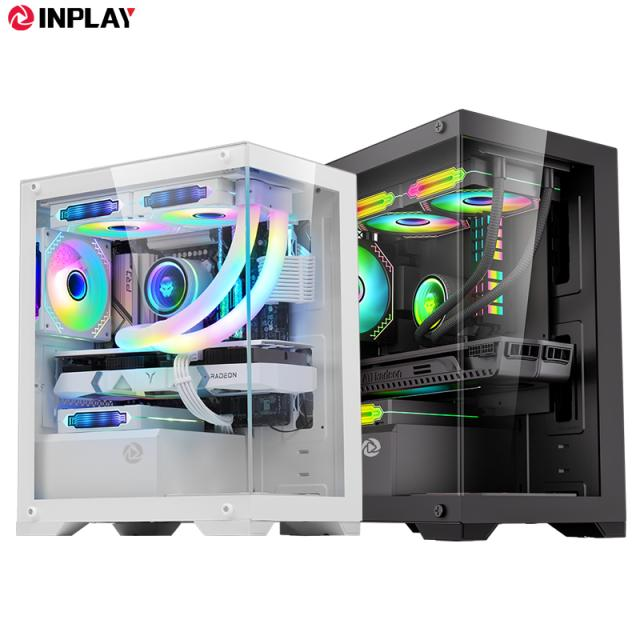electronics: (20, 110, 624, 538), (17, 142, 361, 534), (332, 110, 624, 538), (358, 167, 540, 338), (415, 156, 555, 346), (116, 204, 286, 352), (54, 341, 317, 432), (35, 404, 243, 495), (34, 427, 245, 500), (50, 172, 244, 243), (362, 337, 572, 397), (54, 349, 205, 430), (111, 229, 223, 334), (50, 177, 237, 238), (361, 398, 458, 495), (133, 170, 296, 226), (357, 168, 489, 237), (357, 166, 492, 232), (35, 228, 110, 341), (362, 418, 457, 497), (251, 229, 314, 341), (189, 341, 316, 395), (131, 173, 244, 232), (50, 189, 174, 238), (54, 350, 178, 398), (357, 166, 466, 218), (251, 341, 316, 427), (133, 177, 236, 224), (173, 354, 234, 432), (191, 342, 246, 427), (246, 210, 288, 318), (56, 404, 203, 432), (361, 397, 472, 434), (191, 362, 316, 394), (143, 258, 210, 316), (54, 367, 177, 397), (55, 347, 174, 377), (111, 245, 152, 330), (210, 394, 311, 427), (55, 347, 174, 375), (358, 240, 392, 338), (50, 191, 132, 230), (202, 338, 311, 366), (236, 172, 298, 218), (138, 178, 233, 208), (358, 243, 390, 332), (199, 340, 310, 364), (251, 269, 287, 340), (412, 274, 460, 326), (362, 210, 460, 235), (266, 254, 314, 302), (71, 218, 173, 239), (246, 175, 292, 220), (111, 254, 138, 330), (146, 227, 218, 254), (406, 166, 464, 199), (422, 188, 492, 215), (249, 178, 292, 220), (412, 274, 447, 324), (53, 198, 120, 224), (158, 205, 237, 226), (58, 409, 130, 432), (251, 300, 289, 341), (245, 221, 268, 282), (51, 268, 88, 301), (211, 281, 241, 320), (249, 222, 267, 281), (358, 192, 394, 219), (475, 269, 504, 298), (287, 222, 310, 254), (502, 192, 534, 214), (502, 192, 535, 213), (34, 241, 42, 321), (477, 294, 504, 314), (386, 321, 402, 341), (492, 318, 512, 332), (360, 255, 370, 277), (284, 244, 295, 260), (234, 327, 246, 338), (430, 318, 442, 329), (54, 300, 63, 314), (51, 284, 60, 298), (286, 228, 294, 242), (361, 301, 367, 319), (234, 330, 245, 338), (234, 329, 245, 337), (458, 316, 469, 322), (361, 196, 372, 202), (549, 189, 555, 200), (232, 287, 238, 298), (361, 256, 366, 269), (167, 240, 180, 245), (76, 309, 84, 316), (247, 362, 250, 378), (534, 240, 538, 250), (384, 329, 389, 337), (502, 324, 509, 329), (402, 326, 407, 332), (512, 301, 517, 306), (246, 382, 249, 390), (372, 317, 377, 321), (430, 322, 434, 327), (260, 334, 266, 337), (215, 193, 218, 199), (258, 258, 262, 262), (442, 420, 450, 422), (472, 162, 477, 165), (467, 415, 472, 418), (146, 280, 148, 287), (251, 204, 255, 207), (174, 309, 178, 312), (447, 324, 450, 327), (514, 302, 517, 305), (161, 517, 164, 520), (118, 517, 123, 518), (228, 226, 229, 229), (372, 266, 374, 267), (375, 260, 377, 261), (390, 340, 392, 341), (364, 309, 366, 310), (278, 180, 280, 181), (520, 206, 521, 208), (510, 329, 512, 330), (178, 255, 180, 256), (278, 180, 279, 181), (509, 200, 510, 201), (482, 166, 486, 166), (280, 238, 282, 238)
